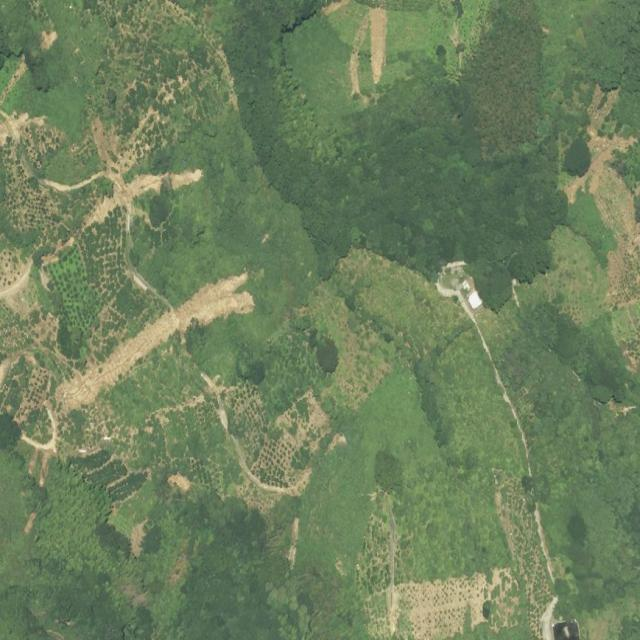landslide: (54, 272, 252, 412), (43, 117, 200, 234), (371, 7, 387, 76)
